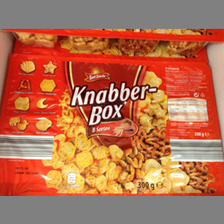chips: (2, 55, 224, 198)
